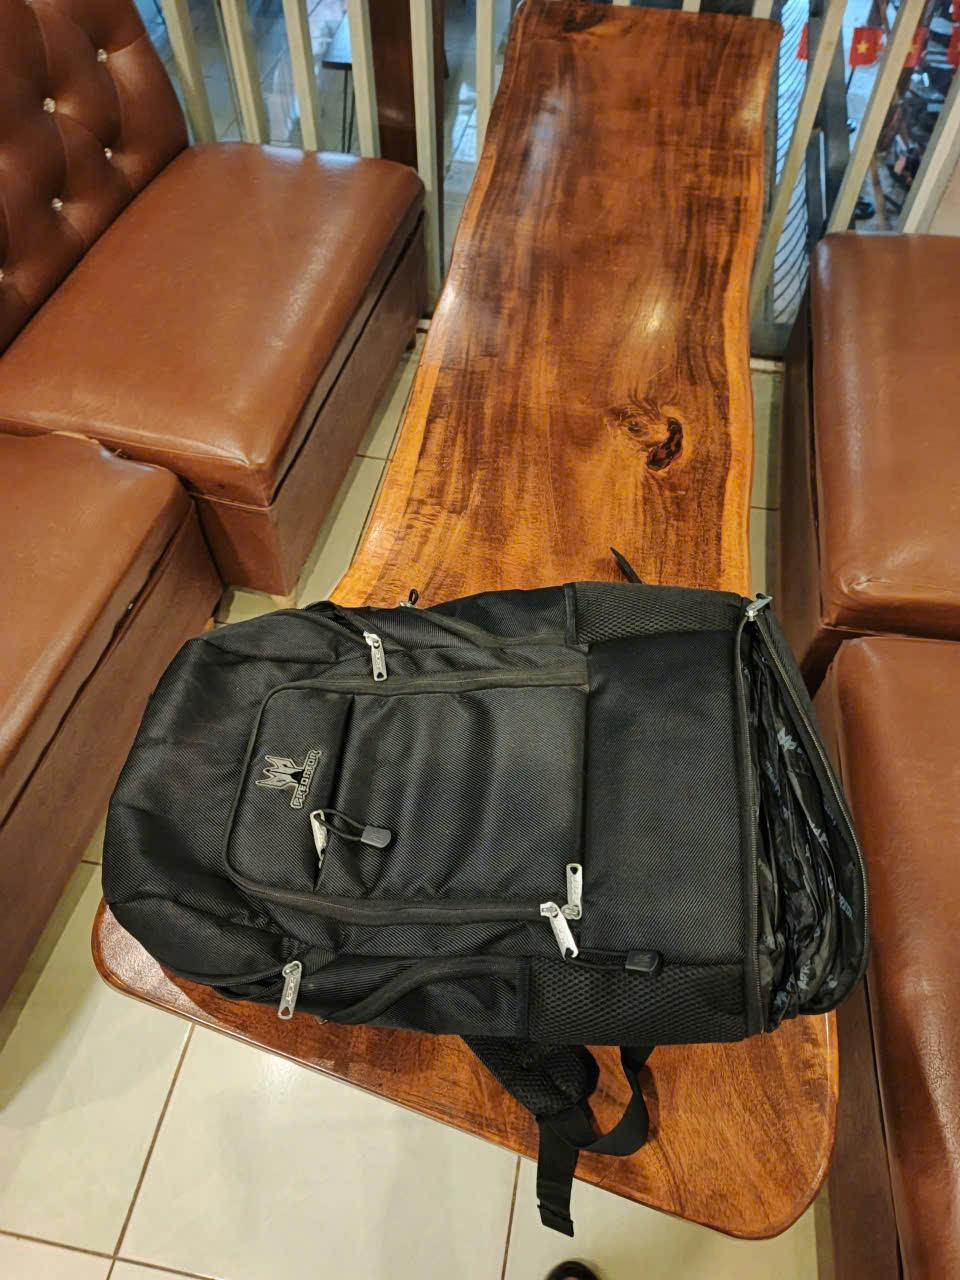Con lai: (103, 583, 870, 1043)
